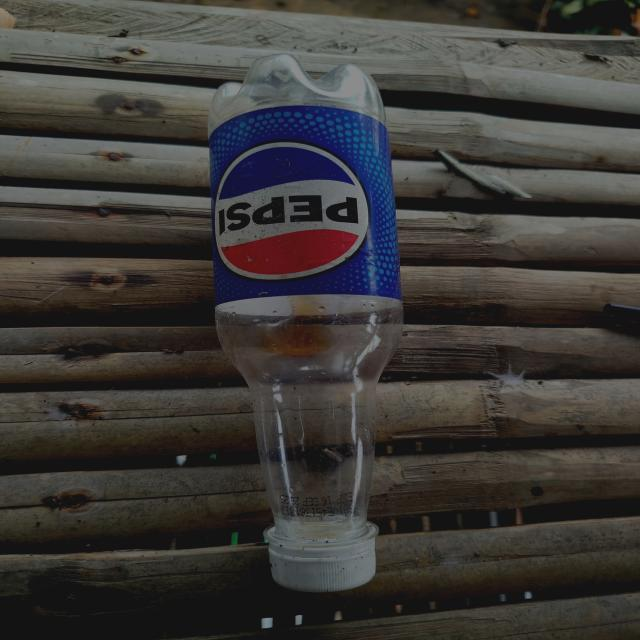plastic: (186, 40, 424, 600)
